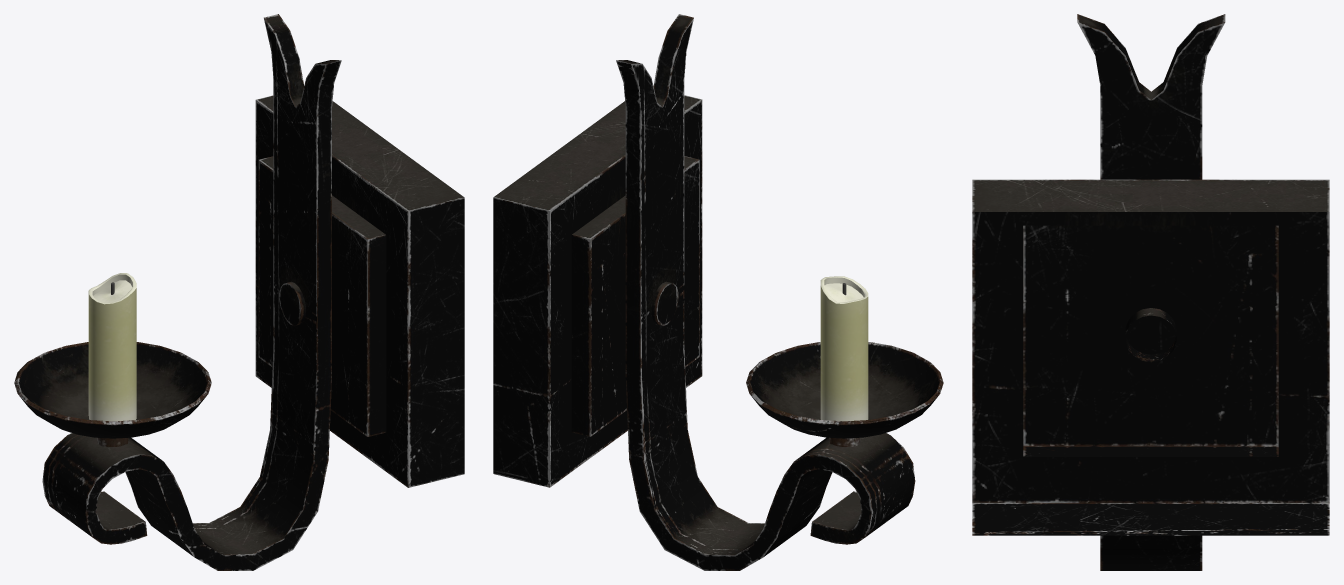
File: obj_candle_wall_lamp_65cbbe.glb
3 renders of one model, left to right at view 1: azimuth 30°, elevation 25°; view 2: azimuth 150°, elevation 25°; view 3: azimuth 270°, elevation 25°, orthographic. The views are drawn at different scales.
Parts seen in each view (by area): view 1: obj_candle_wall_lamp_65cbbe; view 2: obj_candle_wall_lamp_65cbbe; view 3: obj_candle_wall_lamp_65cbbe.
Boxes of the visible parts, box(x1,y1,x2,y2) form: obj_candle_wall_lamp_65cbbe: box(14, 14, 464, 570); obj_candle_wall_lamp_65cbbe: box(493, 14, 943, 570); obj_candle_wall_lamp_65cbbe: box(972, 14, 1329, 570).
Size of the model in its own units: 0.1894 by 0.25 by 0.1387.
Materials: 3 (3 with a texture image).
